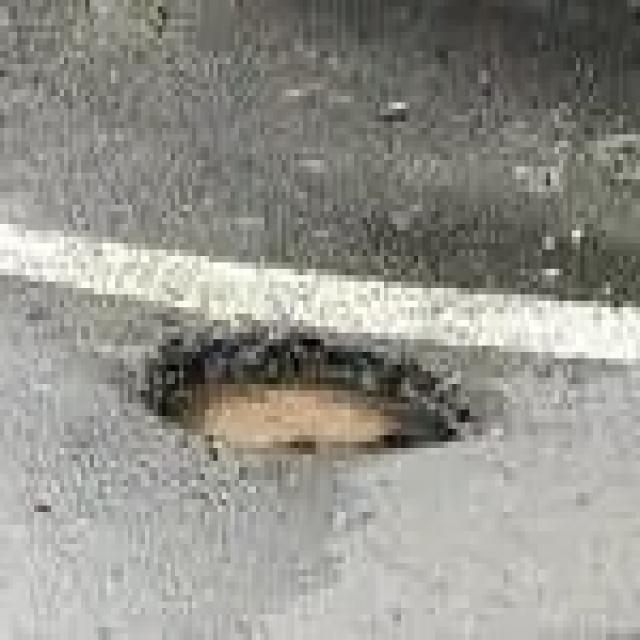pothole: (145, 321, 465, 474)
